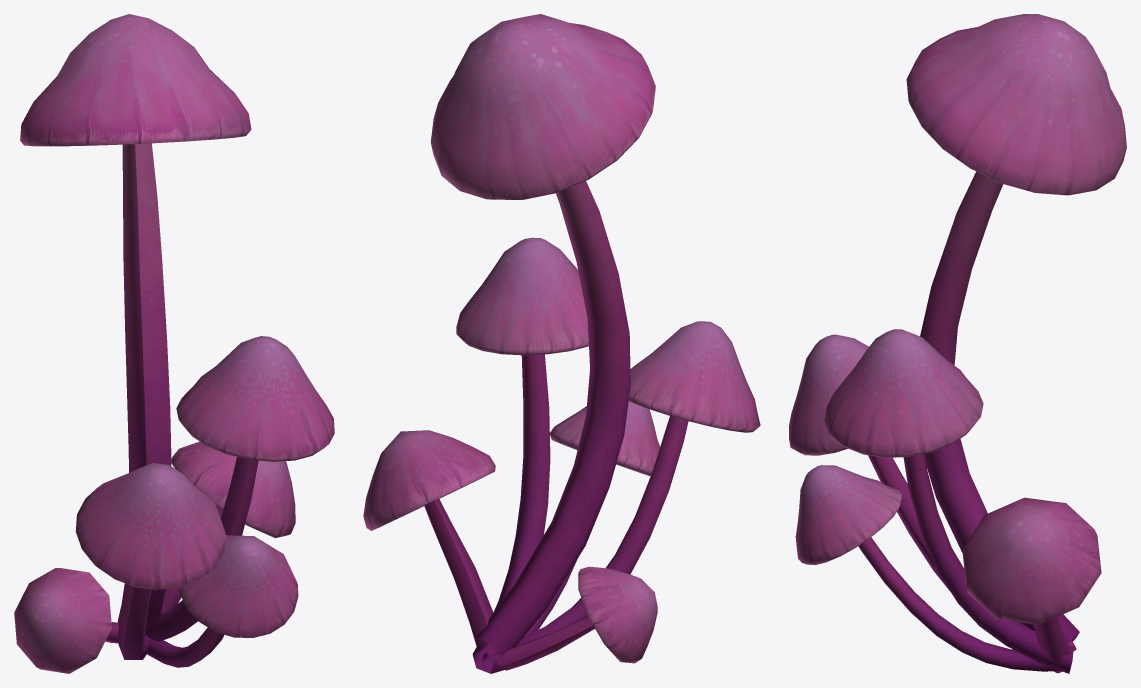
Rendered from SM_Mush_6.fbx.
The picture shows the model from 3 angles, left to right: view 1: azimuth 30°, elevation 25°; view 2: azimuth 150°, elevation 25°; view 3: azimuth 270°, elevation 25°; orthographic projection.
Visible parts, largest first — view 1: SM_Mush_6; view 2: SM_Mush_6; view 3: SM_Mush_6.
Part boxes in pixels (left/top/right/bottom): SM_Mush_6: left=14, top=14, right=334, bottom=673; SM_Mush_6: left=363, top=14, right=760, bottom=673; SM_Mush_6: left=789, top=14, right=1126, bottom=673.
Size of the model in its own units: 42.1 by 89.47 by 42.77.
